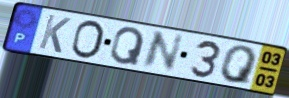3: (187, 39, 222, 79)
K: (37, 13, 73, 55)
N: (139, 30, 186, 73)
O: (69, 19, 106, 61)
Q: (219, 45, 259, 87), (109, 26, 147, 68)
